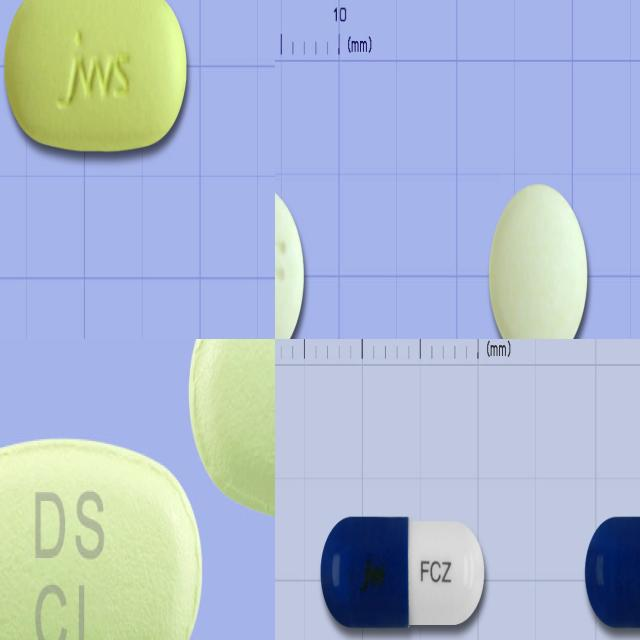Heracin: (0, 434, 203, 640), (187, 339, 275, 524)
Levofloxacin Tab- Dongsung: (488, 186, 588, 339), (275, 182, 305, 339)
Liamclo: (5, 0, 186, 152)
Oneflu Cap: (321, 515, 486, 630), (584, 516, 640, 630)
